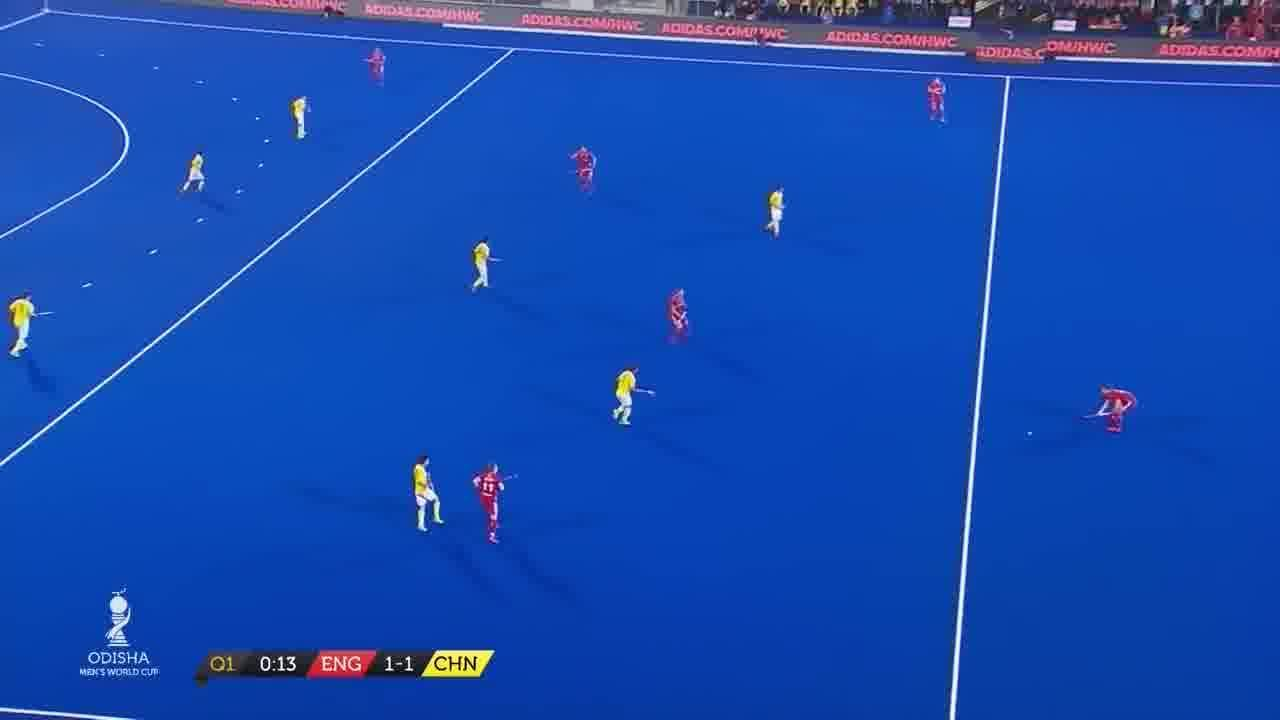ball: (1027, 430, 1034, 437)
